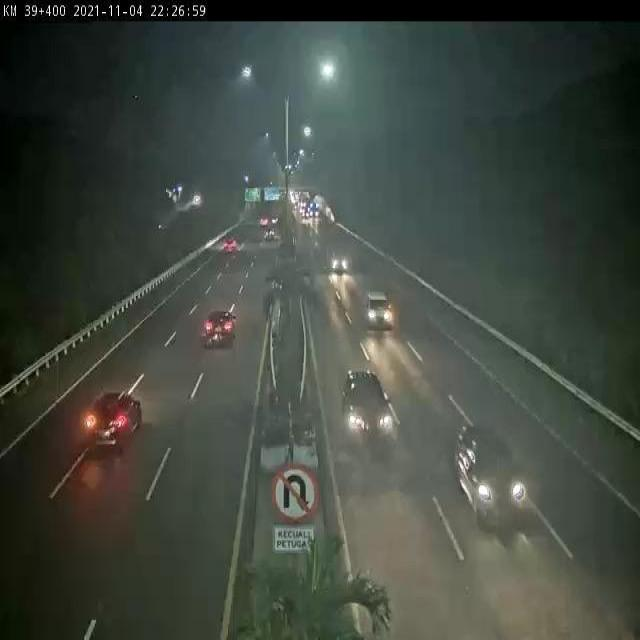car: (453, 421, 529, 524), (341, 367, 394, 448), (83, 392, 141, 453), (364, 289, 399, 332), (203, 306, 235, 351)
